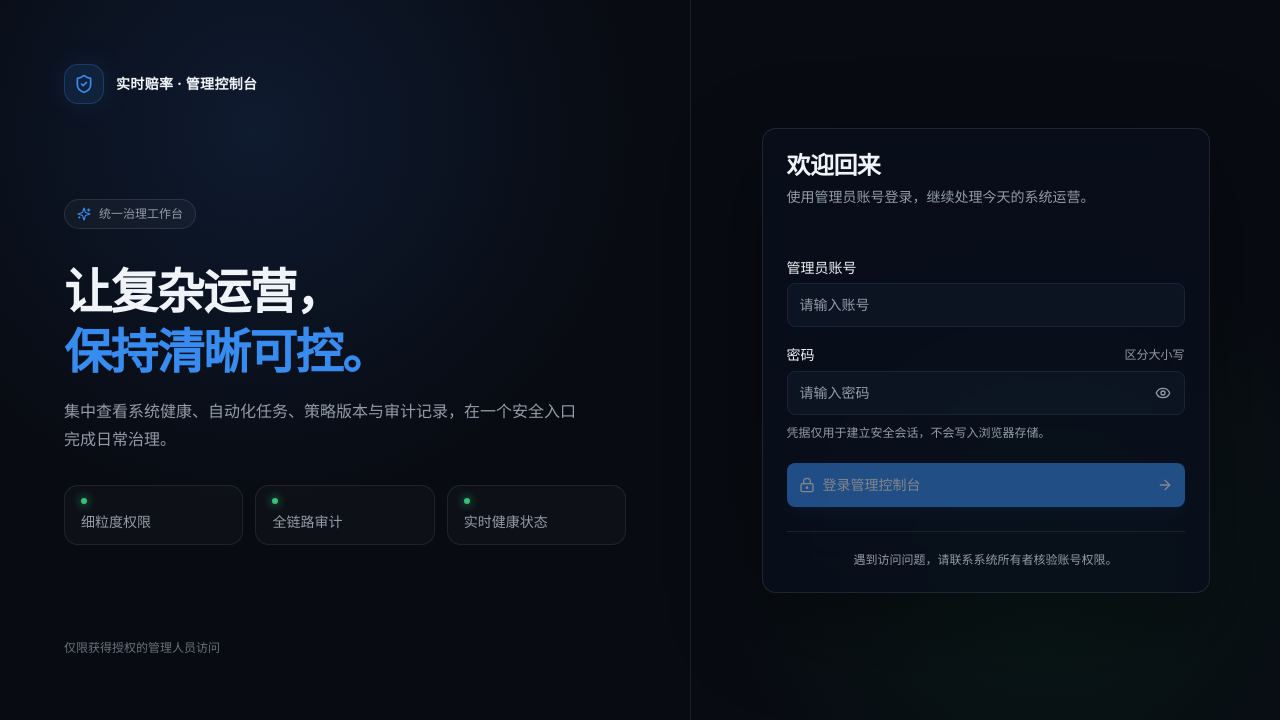
Test: admin login page › restores password focus after a failed login without focusing the alert
In the field with id "admin-username": [986, 304] box [787,282,1185,326], type "root.admin"
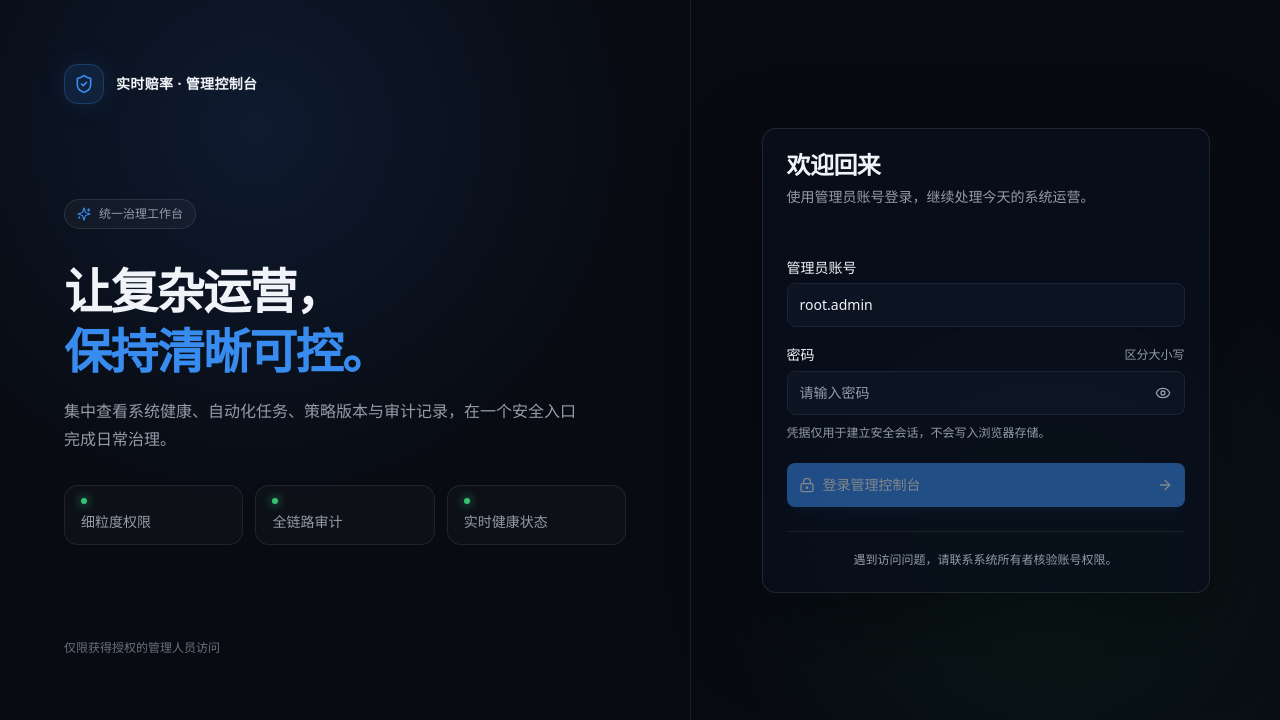
In the password field with id "admin-password": [986, 392] box [787,370,1185,414], type "WrongPassword123"
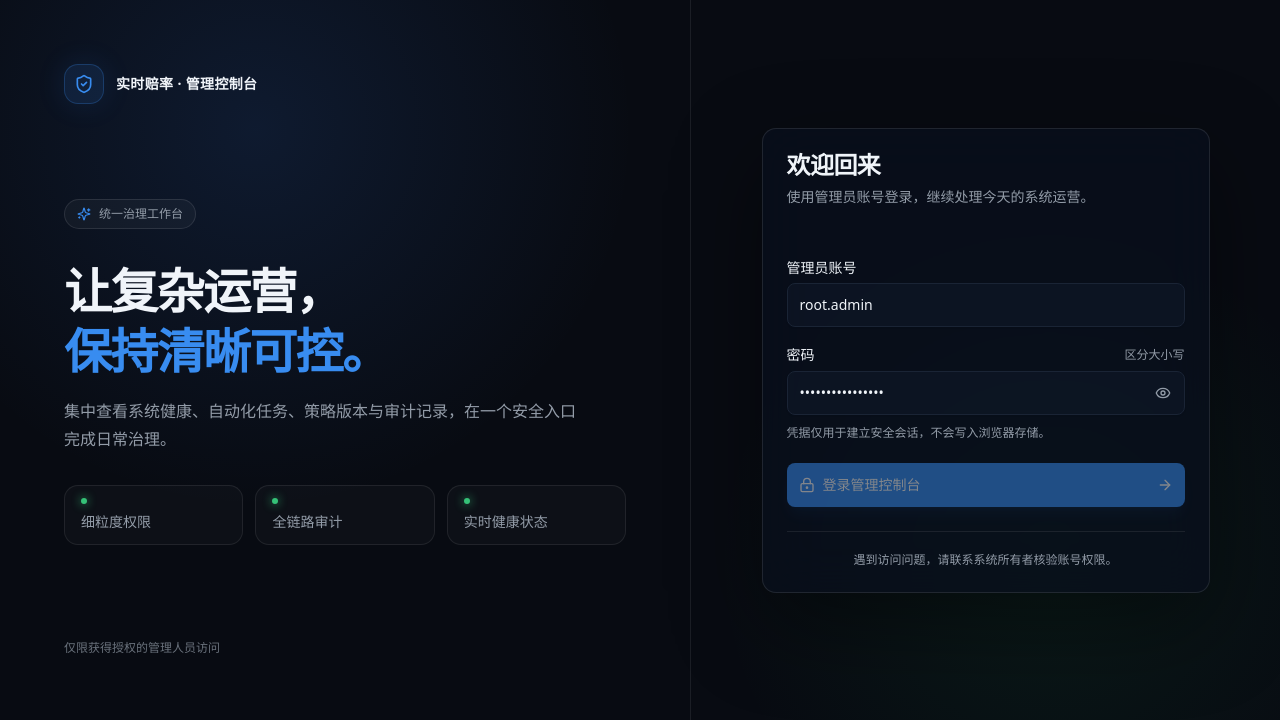
Submit the form, box [787,260,1185,506]
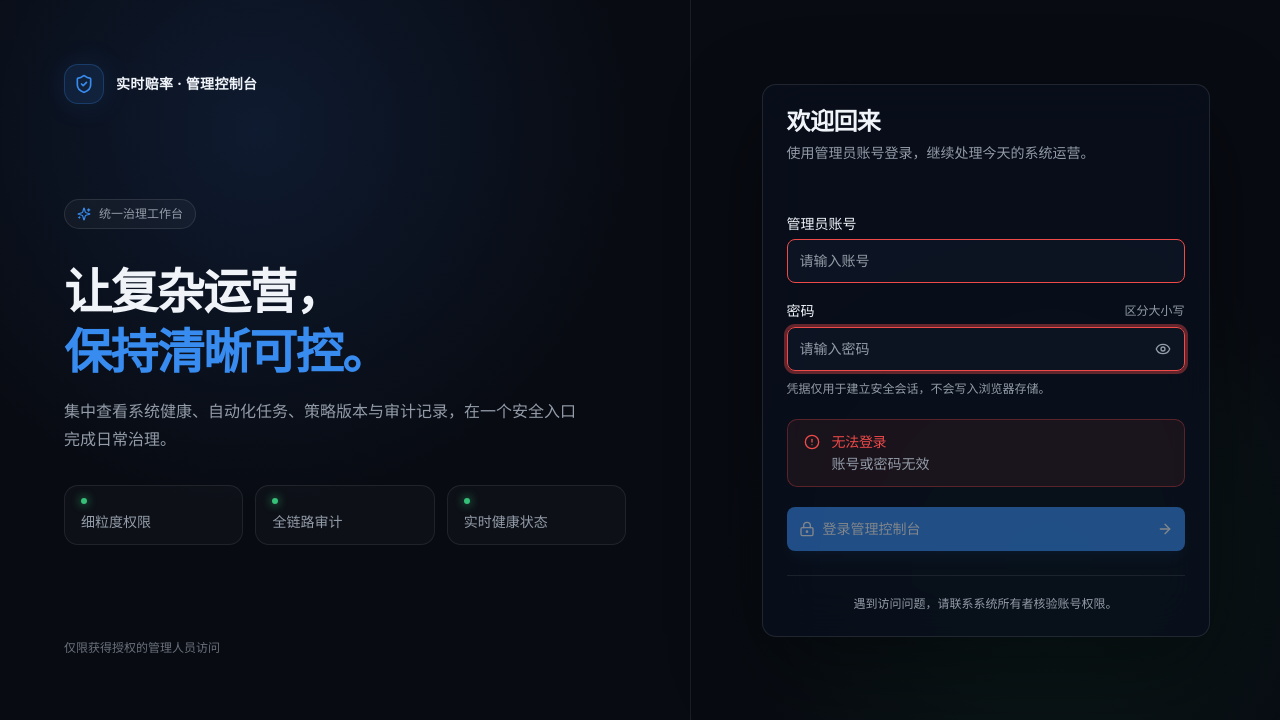
Check: the password field with id "admin-password" is enabled, box [787,326,1185,370]
Check: the message "无法登录 账号或密码无效" is shown, box [787,418,1185,486]
Check: the message with id "login-error" shows "账号或密码无效", box [832,454,930,472]
